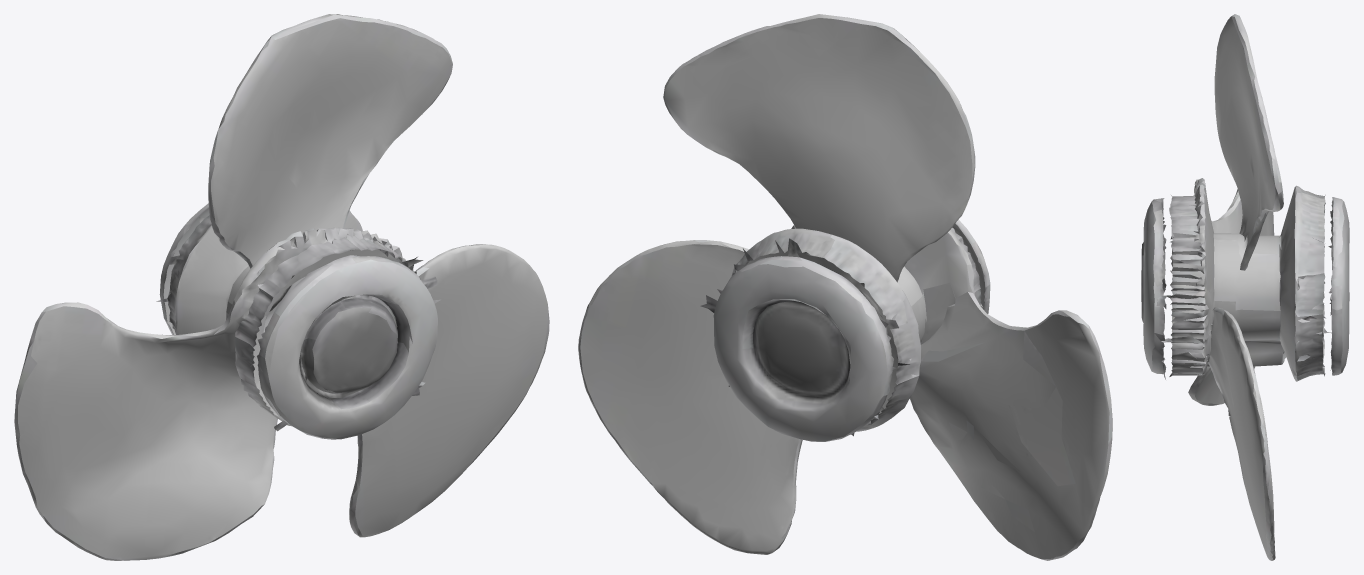
3 renders of one model, left to right at view 1: azimuth 30°, elevation 25°; view 2: azimuth 150°, elevation 25°; view 3: azimuth 270°, elevation 25°, orthographic. The views are drawn at different scales.
Parts seen in each view (by area): view 1: world; view 2: world; view 3: world.
Part boxes in pixels (x1,y1,x2,y2): world: (14,14,549,560); world: (578,14,1112,560); world: (1141,14,1349,560).
Bounding box in the file's own units: 0.304 × 0.2965 × 0.115.
Materials: 1 (1 with a texture image).
